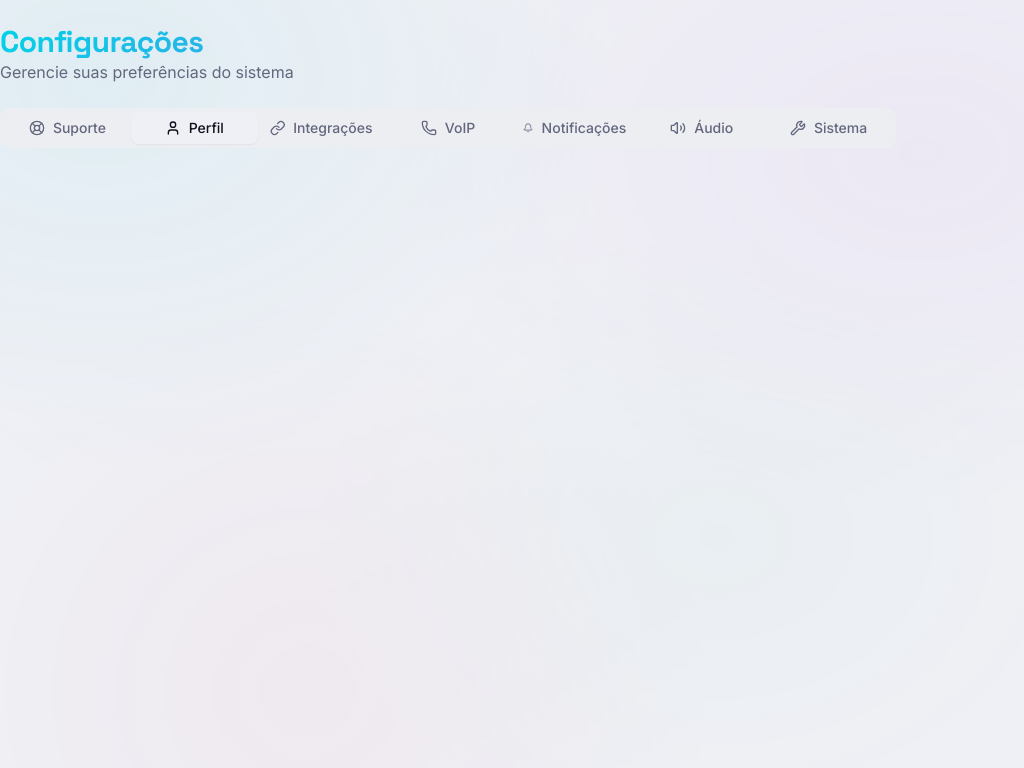
Settings — protecao contra duplo clique ao salvar › protege tambem o botao da aba de audio
Later steps or results of the test are not shown.
Press the mouse on the tab "Áudio": (702, 128) left=638, top=112, right=765, bottom=144
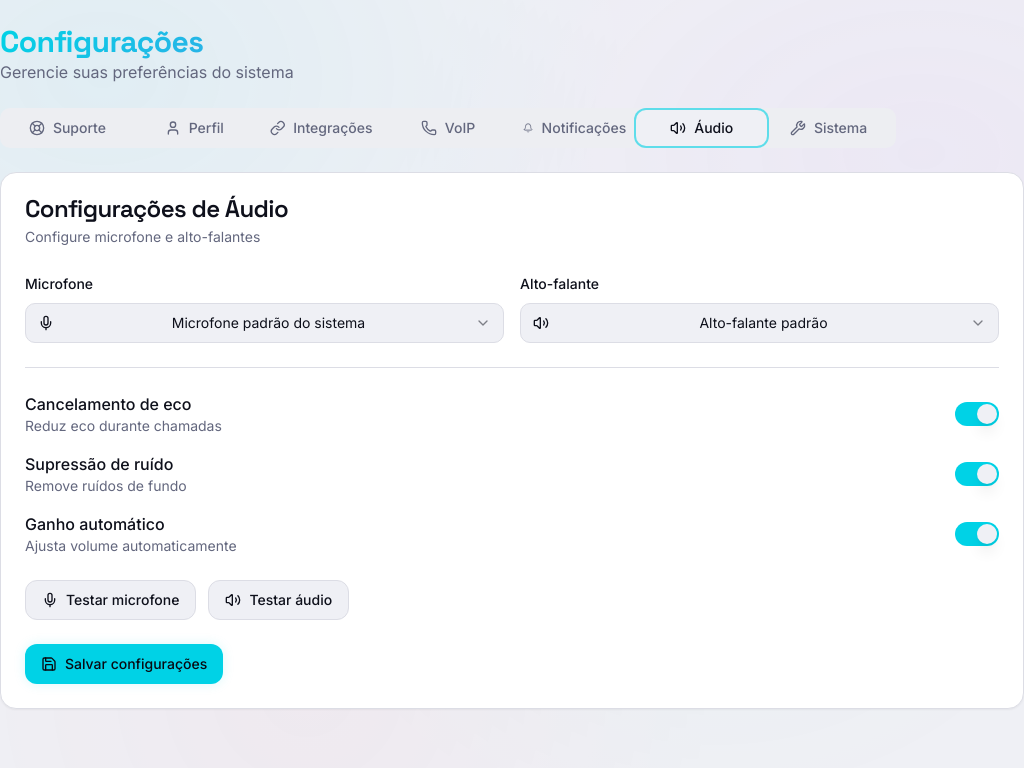
Click the tab "Áudio": (702, 128) left=638, top=112, right=765, bottom=144
Expected: the button "Salvar configurações" is enabled, left=25, top=644, right=223, bottom=684
